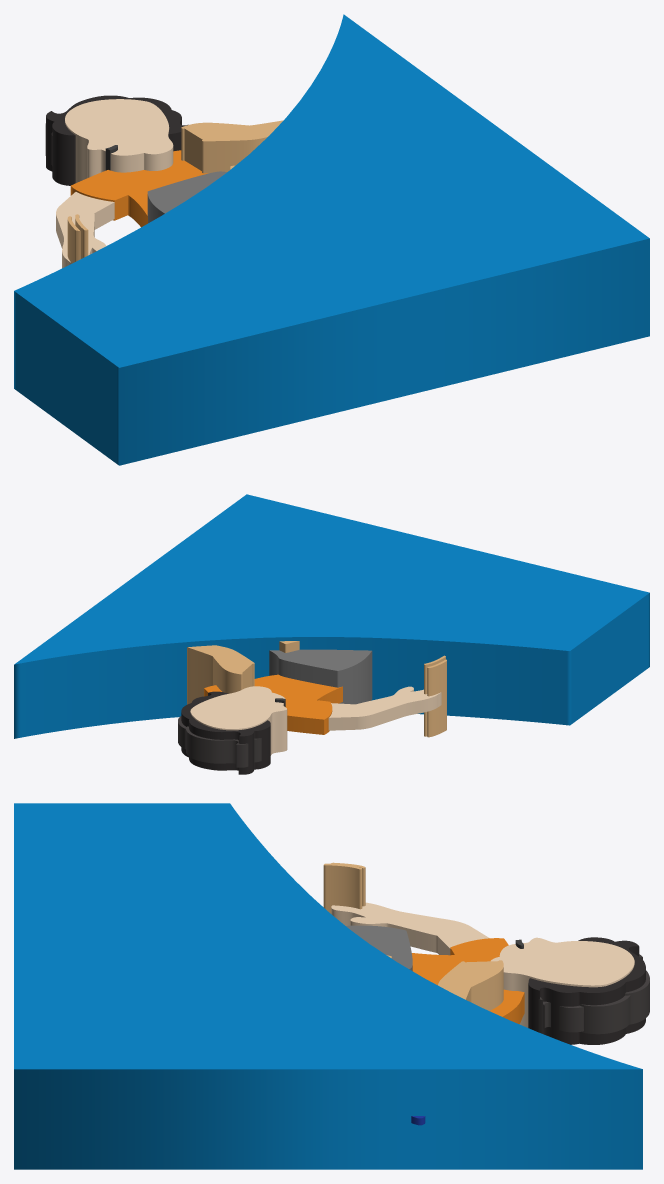
Rendered from emoji_u1f3c4_1f3fb.glb.
The picture shows the model from 3 angles, top to bottom: view 1: azimuth 30°, elevation 25°; view 2: azimuth 150°, elevation 25°; view 3: azimuth 270°, elevation 25°; orthographic projection. The views are drawn at different scales.
Parts seen in each view (by area): view 1: emoji_u1f3c4_1f3fb; view 2: emoji_u1f3c4_1f3fb; view 3: emoji_u1f3c4_1f3fb.
Part boxes in pixels (x1=…): emoji_u1f3c4_1f3fb: x1=14, y1=14, x2=649, y2=465; emoji_u1f3c4_1f3fb: x1=14, y1=494, x2=649, y2=774; emoji_u1f3c4_1f3fb: x1=14, y1=803, x2=649, y2=1169.
Size of the model in its own units: 0.0332 by 0.0058 by 0.0333.
